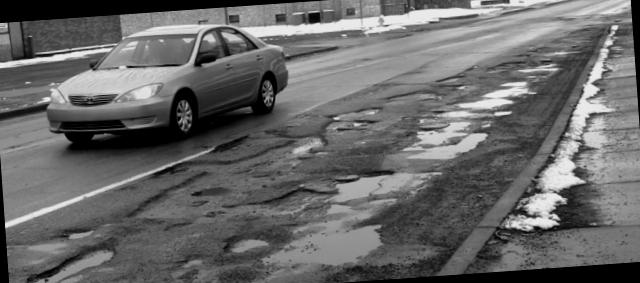Pothole: (285, 53, 560, 270), (13, 221, 132, 283), (320, 88, 386, 140), (202, 221, 276, 267)
